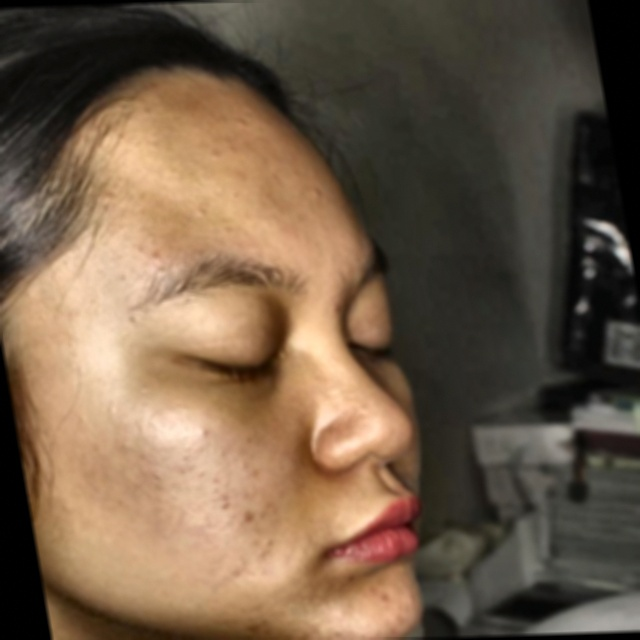comedone: (237, 496, 256, 530), (379, 584, 402, 605)
